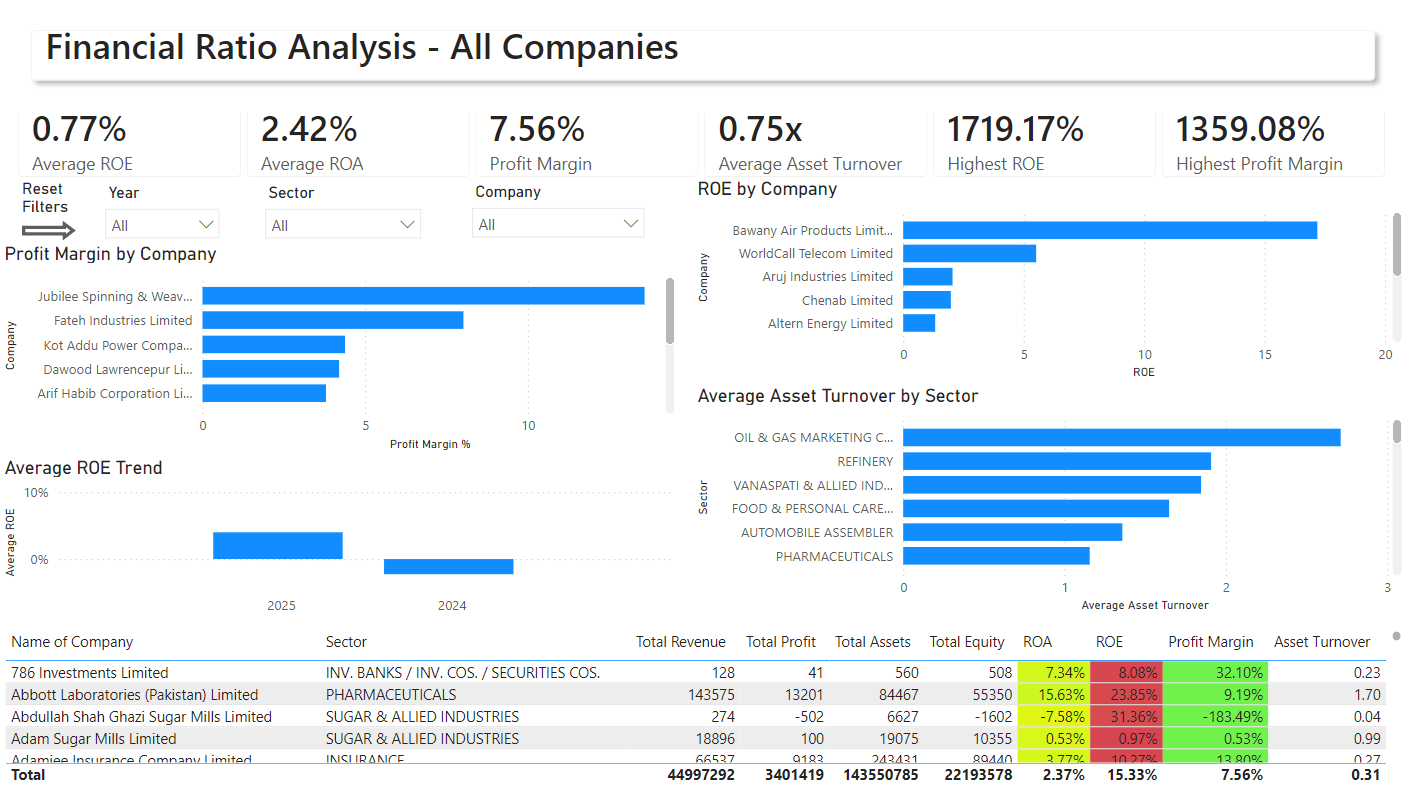

Layout of this report page (visuals, bound fields, positions):
{"tool":"powerbi","page":{"name":"Financial Ratio Analysis","canvas":[1280,720],"ordinal":2},"visuals":[{"type":"cardVisual","fields":{"Data":["Measure.Average ROE","Measure.Average ROA","Measure.Profit Margin","Measure.Average Asset Turnover","Measure.Highest ROE","Measure.Highest Profit Margin"]},"box":[0,73,1280,107],"z":0},{"type":"slicer","fields":{"Values":["FactFinancials.Name of Company"]},"box":[420,163,177,59],"z":1000},{"type":"slicer","fields":{"Values":["DimCompany.Sector"]},"box":[232,164,162,59],"z":2000},{"type":"slicer","fields":{"Values":["FactFinancials.Year"]},"box":[86,163.9,124.5,66.3],"z":3000},{"type":"clusteredBarChart","title":"Profit Margin by Company","fields":{"Category":["FactFinancials.Name of Company"],"Y":["Measure.Profit Margin %"]},"box":[0,222,619,194],"z":4000},{"type":"clusteredBarChart","fields":{"Category":["DimCompany.Sector"],"Y":["Measure.Average Asset Turnover"]},"box":[630,351,650,212],"z":5000},{"type":"clusteredColumnChart","title":"Average ROE Trend","fields":{"Category":["FactFinancials.Year"],"Y":["Measure.Average ROE"]},"box":[0,416,619,154],"z":6000},{"type":"tableEx","fields":{"Values":["FactFinancials.Name of Company","DimCompany.Sector","Measure.Total Revenue","Measure.Total Profit","Measure.Total Assets","Measure.Total Equity","Measure.ROA","Measure.ROE (Valid)","Measure.Profit Margin","Measure.Asset Turnover"]},"box":[0,570,1280,150],"z":7000},{"type":"cardVisual","fields":{"Data":["Measure.Ratio Page Title"]},"box":[0,0,1280,104],"z":8000},{"type":"clusteredBarChart","fields":{"Category":["FactFinancials.Name of Company"],"Y":["Measure.ROE (Valid)"]},"box":[630,163,650,188],"z":9000},{"type":"actionButton","title":"Reset Filters","box":[21,165,49,55],"z":10000}]}

Visuals, with their boxes in screenshot pixels (x1, y1, x2, y2), scaled from the page's 1280x720 canvas onto the 1404x787 screenshot:
cardVisual - Measure.Average ROE x Measure.Average ROA: {"x1": 0, "y1": 80, "x2": 1403, "y2": 197}
slicer - FactFinancials.Name of Company: {"x1": 461, "y1": 178, "x2": 655, "y2": 243}
slicer - DimCompany.Sector: {"x1": 254, "y1": 179, "x2": 432, "y2": 244}
slicer - FactFinancials.Year: {"x1": 94, "y1": 179, "x2": 231, "y2": 252}
"Profit Margin by Company" clusteredBarChart: {"x1": 0, "y1": 243, "x2": 679, "y2": 455}
clusteredBarChart - DimCompany.Sector x Measure.Average Asset Turnover: {"x1": 691, "y1": 384, "x2": 1403, "y2": 615}
"Average ROE Trend" clusteredColumnChart: {"x1": 0, "y1": 455, "x2": 679, "y2": 623}
tableEx - FactFinancials.Name of Company x DimCompany.Sector: {"x1": 0, "y1": 623, "x2": 1403, "y2": 786}
cardVisual - Measure.Ratio Page Title: {"x1": 0, "y1": 0, "x2": 1403, "y2": 114}
clusteredBarChart - FactFinancials.Name of Company x Measure.ROE (Valid): {"x1": 691, "y1": 178, "x2": 1403, "y2": 384}
"Reset Filters" actionButton: {"x1": 23, "y1": 180, "x2": 77, "y2": 240}
